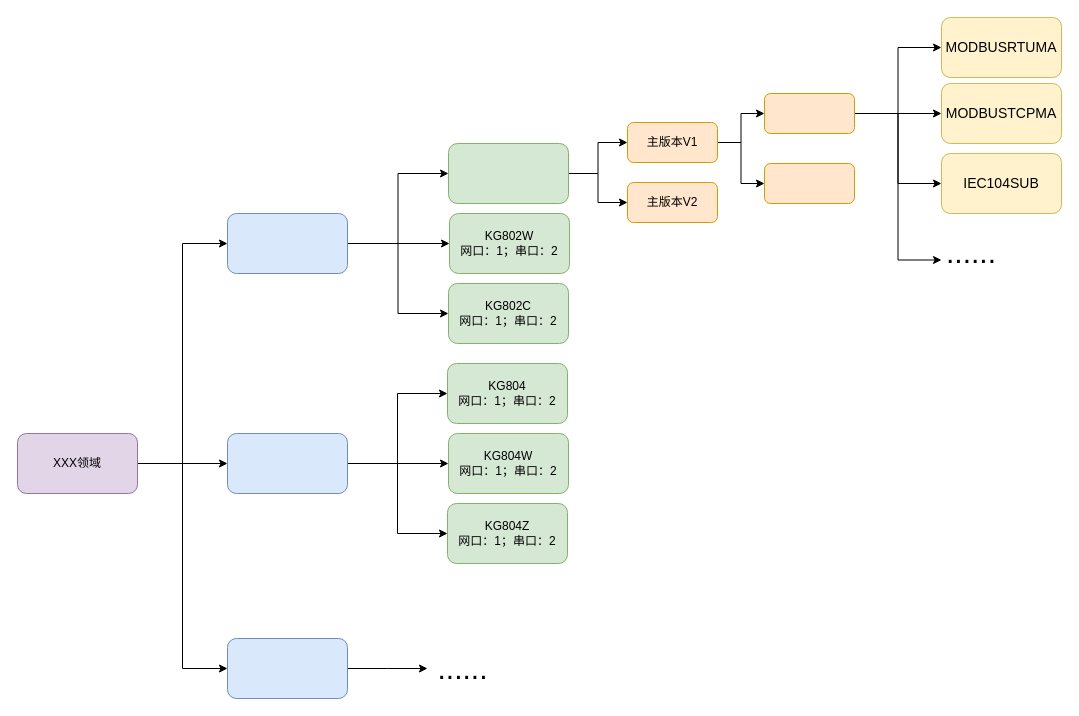
Some shapes in this 1079 by 716 pixel diagram are drawn without their labels. Each missing label, with the centre of its shape:
"KG801W 网口：1；串口：2" belongs at point (508, 173).
"厂家01XXX" belongs at point (287, 243).
"厂家02XXX" belongs at point (287, 463).
"厂家03XXX" belongs at point (287, 668).
"次版本V1.0" belongs at point (809, 113).
"次版本V1.1" belongs at point (809, 183).
